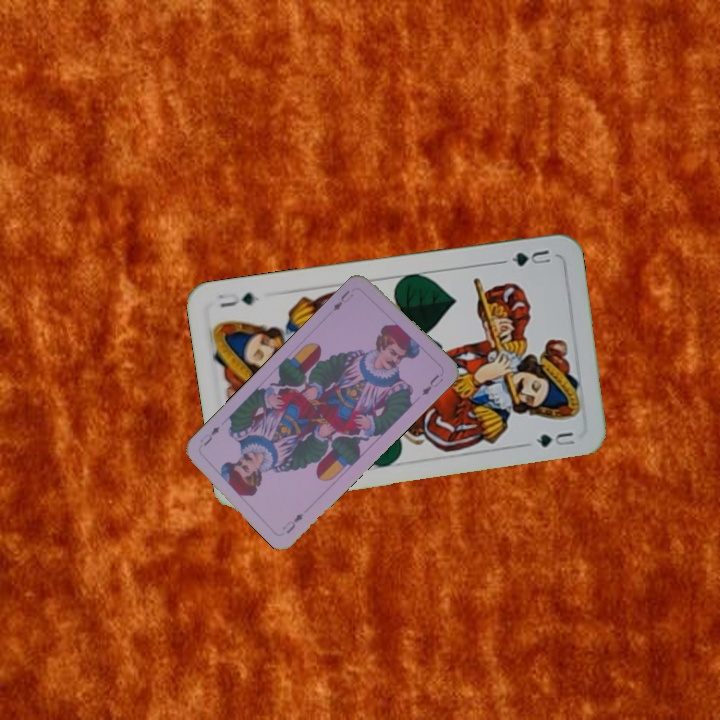EU: (329, 286, 356, 313), (278, 509, 305, 536)
GU: (507, 245, 553, 269)
